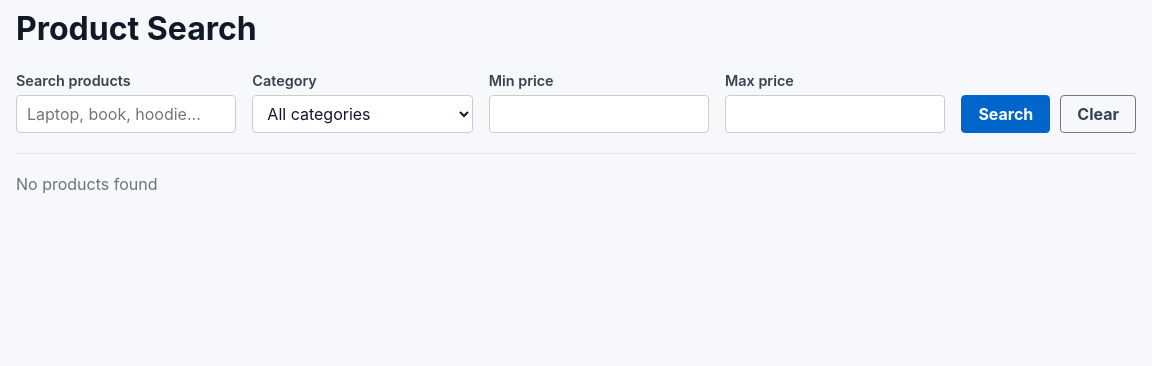
Test: ProductSearch › reset button clears all inputs and results
Type "book" into the search field with test id "search-input" at (126, 114), box [16,95,236,133]
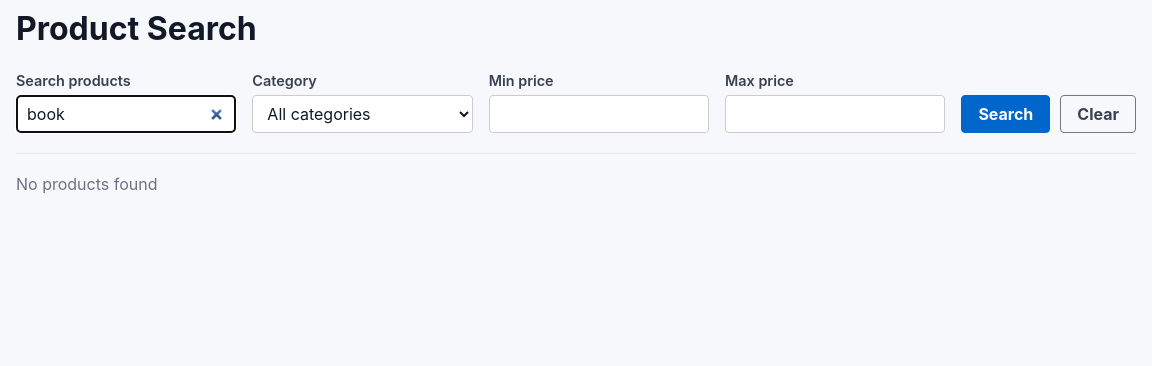
Select "books" in the dropdown with test id "category-select" at (362, 114), box [252,95,473,133]
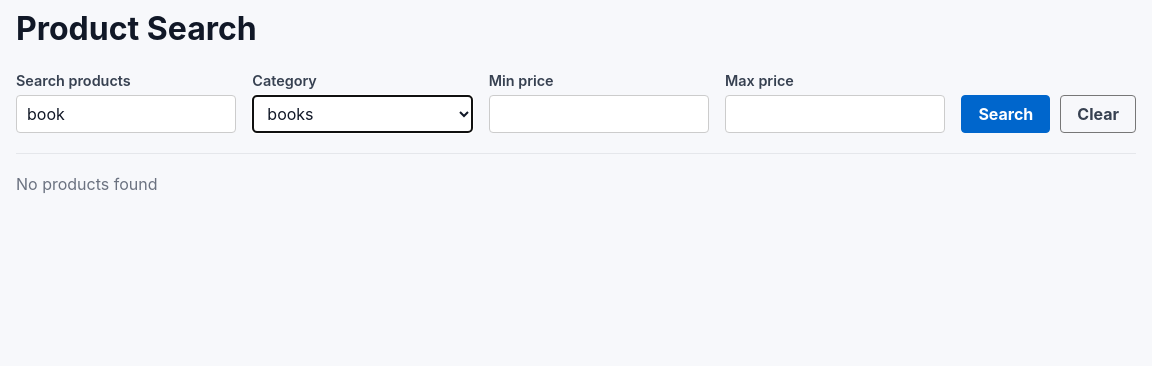
Type "10" into the number field with test id "min-price-input" at (599, 114), box [489,95,709,133]
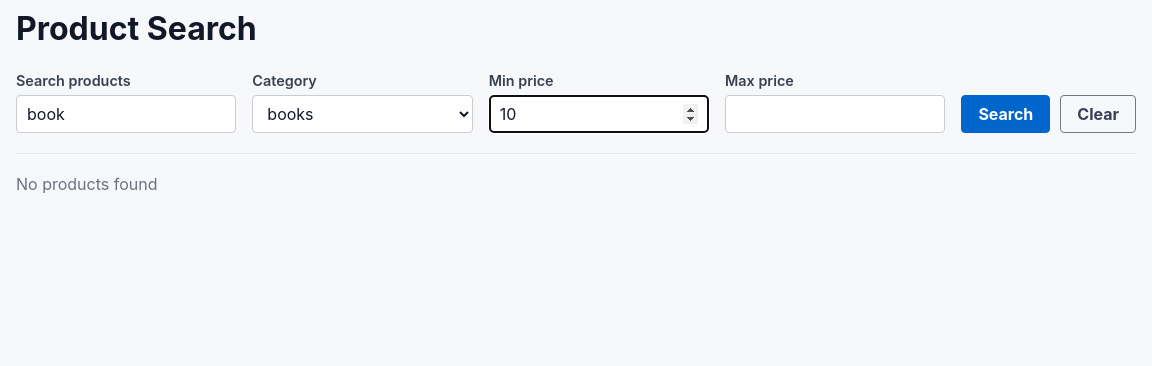
Type "50" into the number field with test id "max-price-input" at (835, 114), box [725,95,945,133]
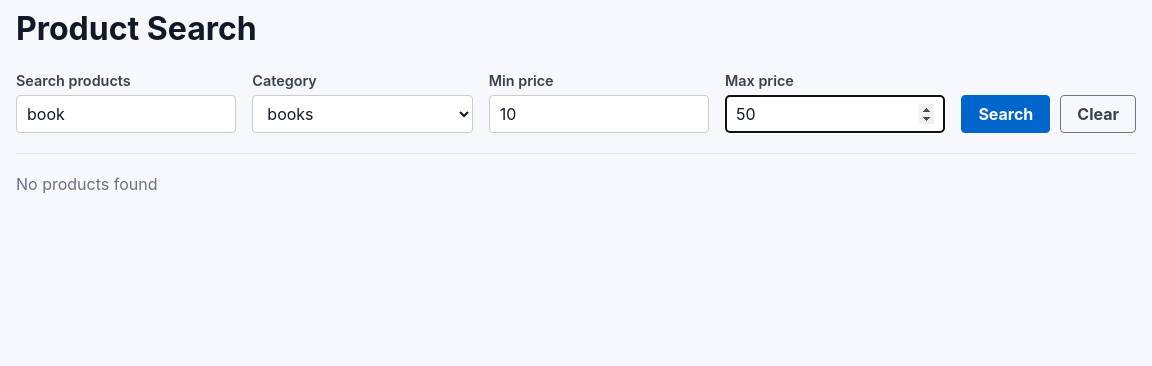
Click the button with test id "search-button" at (1006, 114), box [961,95,1050,133]
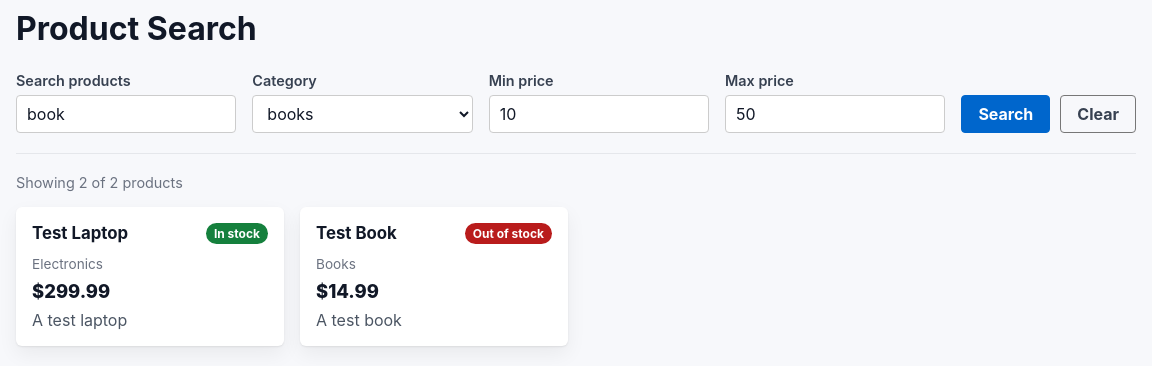
Check: the heading "Test Book" is shown, box [316,223,397,244]
Click the button with test id "reset-button" at (1098, 114), box [1060,95,1136,133]
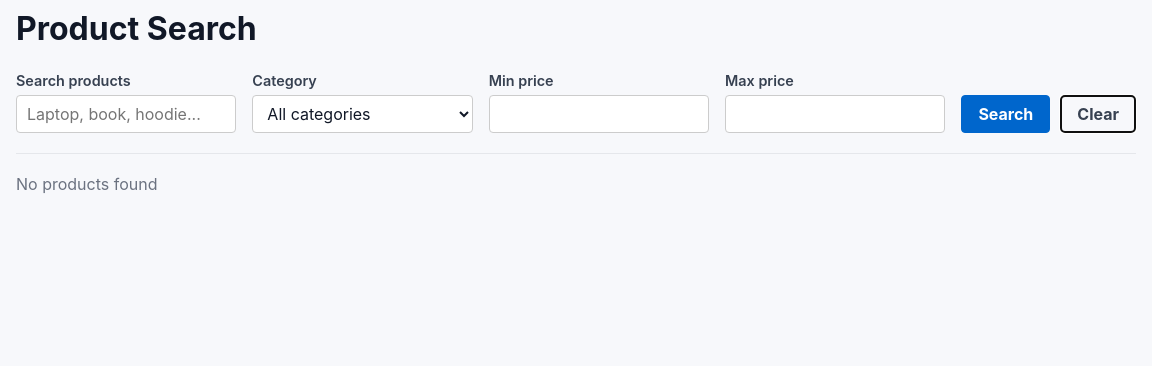
Check: the search field with test id "search-input" is empty, box [16,95,236,133]
Check: the number field with test id "min-price-input" is not empty, box [489,95,709,133]
Check: the number field with test id "max-price-input" is not empty, box [725,95,945,133]
